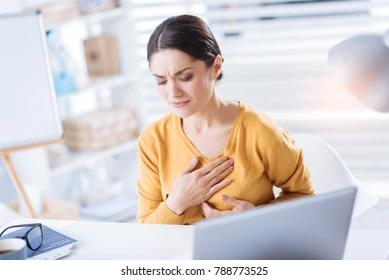pain: (152, 63, 200, 87)
